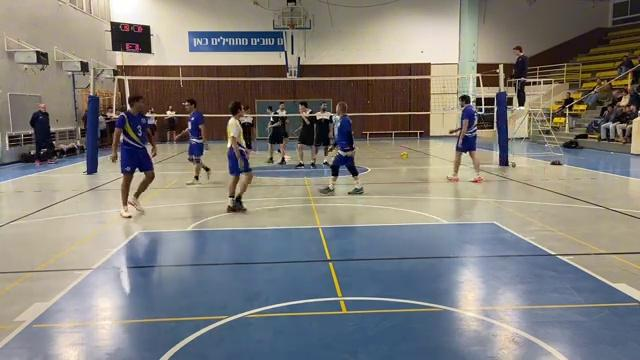ball: (402, 152, 409, 159)
